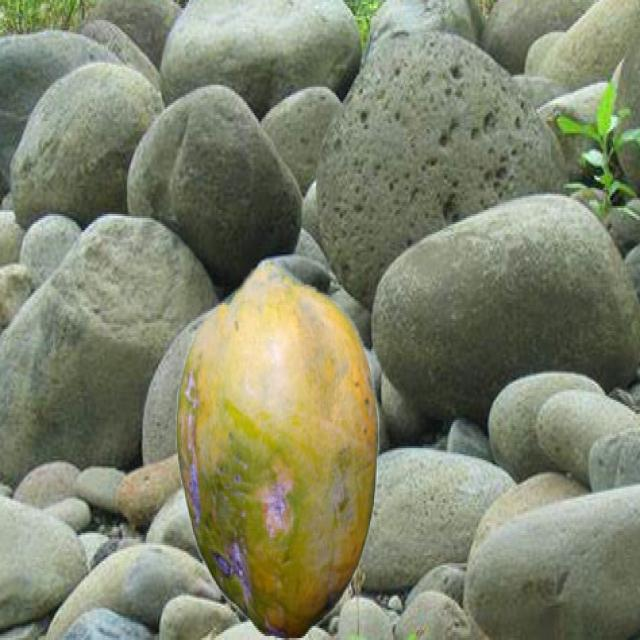Pepaya rippen: (177, 254, 383, 640)
